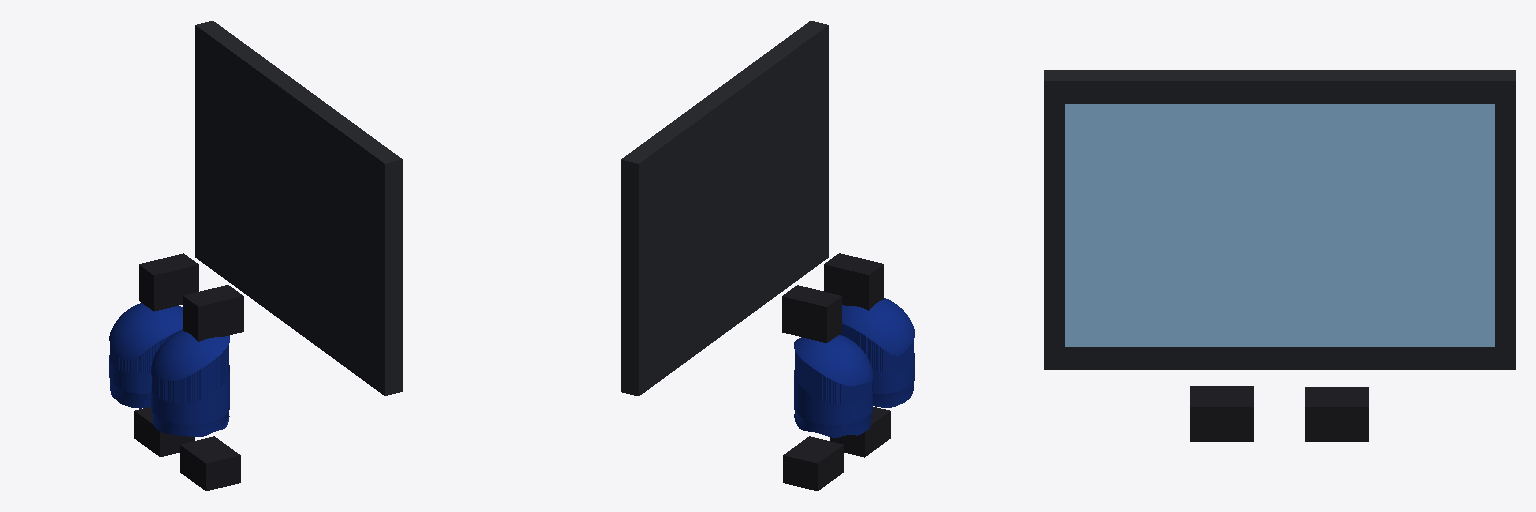
URDF robot description (haetburi):
<?xml version="1.0"?>
<!-- Haetburi biped (v19_xc330) - generated by tools/build_model.py, do not edit by hand -->
<robot name="haetburi">
  <mujoco>
    <compiler meshdir="." balanceinertia="true" discardvisual="false" strippath="false" fusestatic="false"/>
  </mujoco>
  <material name="display"><color rgba="0.18 0.19 0.21 1"/></material>
  <material name="screen"><color rgba="0.62 0.80 0.95 1"/></material>
  <material name="shell"><color rgba="0.106 0.216 0.541 1"/></material>
  <material name="motor"><color rgba="0.15 0.15 0.17 1"/></material>
  <material name="foot"><color rgba="0.25 0.25 0.28 1"/></material>
  <link name="world"/>
  <joint name="floating_base" type="floating">
    <parent link="world"/><child link="pelvis"/>
    <origin xyz="0 0 0" rpy="0 0 0"/>
  </joint>
  <link name="pelvis">
    <inertial>
      <origin xyz="-0.00429446 -0.000130495 0.0482093" rpy="0 0 0"/>
      <mass value="0.457205"/>
      <inertia ixx="0.000638731" ixy="3.41945e-06" ixz="0.00019398" iyy="0.000732697" iyz="5.66816e-06" izz="0.000765199"/>
    </inertial>
    <visual><origin xyz="0 0 0" rpy="0 0 0"/><geometry><mesh filename="meshes/pelvis.stl"/></geometry><material name="shell"/></visual>
    <visual><origin xyz="0.014303 0.0280162 0.062" rpy="0 0 0"/><geometry><box size="0.034 0.02 0.026"/></geometry><material name="motor"/></visual>
    <visual><origin xyz="0.015297 -0.0283619 0.062" rpy="0 0 0"/><geometry><box size="0.034 0.02 0.026"/></geometry><material name="motor"/></visual>
    <collision><origin xyz="0.00854514 -0.00016741 0.03749" rpy="0 0 0"/><geometry><box size="0.102452 0.13605 0.04458"/></geometry></collision>
  </link>
  <link name="torso">
    <inertial>
      <origin xyz="0.0304346 9.21525e-05 0.127815" rpy="0 0 0"/>
      <mass value="2.49671"/>
      <inertia ixx="0.0486542" ixy="-0.000109285" ixz="0.00845894" iyy="0.047975" iyz="-0.000116759" izz="0.0276872"/>
    </inertial>
    <visual><origin xyz="0 0 0" rpy="0 0 0"/><geometry><mesh filename="meshes/torso.stl"/></geometry><material name="shell"/></visual>
    <visual><origin xyz="0.096141 0 0.0478113" rpy="0 0 0"/><geometry><box size="0.013524 0.247548 0.167345"/></geometry><material name="display"/></visual>
    <visual><origin xyz="0.102903 0 0.0478113" rpy="0 0 0"/><geometry><box size="0.0004 0.225792 0.14112"/></geometry><material name="screen"/></visual>
    <collision><origin xyz="-0.0446378 -2.07797e-06 0.032932" rpy="0 0 0"/><geometry><box size="0.209525 0.142073 0.139911"/></geometry></collision>
    <collision><origin xyz="0.0545076 0.110048 0.0663604" rpy="0 0 0"/><geometry><sphere radius="0.0796041"/></geometry></collision>
    <collision><origin xyz="0.0548844 -0.110217 0.0663604" rpy="0 0 0"/><geometry><sphere radius="0.0795276"/></geometry></collision>
    <collision><origin xyz="-0.00684162 0.000349887 0.134345" rpy="0 0 0"/><geometry><sphere radius="0.136537"/></geometry></collision>
    <collision><origin xyz="-0.0119218 -0.00016086 0.197217" rpy="0 0 0"/><geometry><sphere radius="0.157523"/></geometry></collision>
    <collision><origin xyz="-0.0181535 -0.000265494 0.260099" rpy="0 0 0"/><geometry><sphere radius="0.155698"/></geometry></collision>
    <collision><origin xyz="-0.0142413 0.00112154 0.322979" rpy="0 0 0"/><geometry><sphere radius="0.135386"/></geometry></collision>
    <collision><origin xyz="-0.00842703 0.00887726 0.385897" rpy="0 0 0"/><geometry><sphere radius="0.0964986"/></geometry></collision>
    <collision><origin xyz="-0.0154437 -0.00293413 0.44876" rpy="0 0 0"/><geometry><sphere radius="0.056001"/></geometry></collision>
    <collision><origin xyz="0.096141 0 0.0478113" rpy="0 0 0"/><geometry><box size="0.013524 0.247548 0.167345"/></geometry></collision>
  </link>
  <link name="leg_l">
    <inertial>
      <origin xyz="-0.00365915 0.00265887 -0.0120138" rpy="0 0 0"/>
      <mass value="0.0746039"/>
      <inertia ixx="6.12366e-05" ixy="1.15046e-07" ixz="3.26188e-06" iyy="6.21255e-05" iyz="3.03383e-07" izz="2.80768e-05"/>
    </inertial>
    <visual><origin xyz="0 0 0" rpy="0 0 0"/><geometry><mesh filename="meshes/leg_l.stl"/></geometry><material name="shell"/></visual>
    <collision><origin xyz="-0.00552526 0.00309104 0.00174308" rpy="0 0 0"/><geometry><box size="0.0528905 0.0485022 0.0618771"/></geometry></collision>
  </link>
  <link name="hip_l">
    <inertial>
      <origin xyz="0 -0.0025438 0.0220535" rpy="0 0 0"/>
      <mass value="0.0330524"/>
      <inertia ixx="3.81359e-06" ixy="0" ixz="0" iyy="3.26885e-06" iyz="6.71533e-08" izz="2.07807e-06"/>
    </inertial>
    <visual><origin xyz="0 -0.003 0.024" rpy="0 0 0"/><geometry><box size="0.02 0.026 0.034"/></geometry><material name="motor"/></visual>
  </link>
  <link name="foot_l">
    <inertial>
      <origin xyz="0.00151836 0.00765724 -0.00188504" rpy="0 0 0"/>
      <mass value="0.108166"/>
      <inertia ixx="3.82088e-05" ixy="-2.04857e-06" ixz="-5.5707e-07" iyy="5.63009e-05" iyz="-1.65069e-06" izz="6.65931e-05"/>
    </inertial>
    <visual><origin xyz="0 0 0" rpy="0 0 0"/><geometry><mesh filename="meshes/foot_l.stl"/></geometry><material name="shell"/></visual>
    <visual><origin xyz="0 0.0088 5.38845e-19" rpy="0 0 0"/><geometry><box size="0.026 0.034 0.02"/></geometry><material name="motor"/></visual>
    <collision><origin xyz="0 0 0" rpy="0 0 0"/><geometry><mesh filename="meshes/foot_l.stl"/></geometry></collision>
  </link>
  <link name="leg_r">
    <inertial>
      <origin xyz="-0.00403172 -0.00260922 -0.0136105" rpy="0 0 0"/>
      <mass value="0.0764991"/>
      <inertia ixx="6.72803e-05" ixy="-1.83685e-07" ixz="3.94605e-06" iyy="6.82711e-05" iyz="-3.38436e-07" izz="2.94613e-05"/>
    </inertial>
    <visual><origin xyz="0 0 0" rpy="0 0 0"/><geometry><mesh filename="meshes/leg_r.stl"/></geometry><material name="shell"/></visual>
    <collision><origin xyz="-0.00659261 -0.00306936 0.000874972" rpy="0 0 0"/><geometry><box size="0.0526981 0.0486026 0.0657819"/></geometry></collision>
  </link>
  <link name="hip_r">
    <inertial>
      <origin xyz="0 0.0025438 0.0245973" rpy="0 0 0"/>
      <mass value="0.0330524"/>
      <inertia ixx="3.96364e-06" ixy="0" ixz="0" iyy="3.4189e-06" iyz="-8.28923e-08" izz="2.07807e-06"/>
    </inertial>
    <visual><origin xyz="0 0.003 0.027" rpy="0 0 0"/><geometry><box size="0.02 0.026 0.034"/></geometry><material name="motor"/></visual>
  </link>
  <link name="foot_r">
    <inertial>
      <origin xyz="0.00167186 -0.00757097 -0.00193996" rpy="0 0 0"/>
      <mass value="0.107887"/>
      <inertia ixx="3.79326e-05" ixy="2.17018e-06" ixz="-4.94496e-07" iyy="5.60583e-05" iyz="1.63832e-06" izz="6.63659e-05"/>
    </inertial>
    <visual><origin xyz="0 0 0" rpy="0 0 0"/><geometry><mesh filename="meshes/foot_r.stl"/></geometry><material name="shell"/></visual>
    <visual><origin xyz="0 -0.0088 5.38845e-19" rpy="0 0 0"/><geometry><box size="0.026 0.034 0.02"/></geometry><material name="motor"/></visual>
    <collision><origin xyz="0 0 0" rpy="0 0 0"/><geometry><mesh filename="meshes/foot_r.stl"/></geometry></collision>
  </link>
  <joint name="waist_fixed" type="fixed">
    <parent link="pelvis"/><child link="torso"/>
    <origin xyz="0 0 0.05978" rpy="0 0 0"/>
  </joint>
  <joint name="hip_yaw_l" type="revolute">
    <parent link="pelvis"/><child link="hip_l"/>
    <origin xyz="0.00550302 0.0280162 0" rpy="0 0 0"/>
    <axis xyz="0 0 1"/>
    <limit lower="-0.366519" upper="0.366519" effort="1.0" velocity="7.43"/>
    <dynamics damping="0.07142857142857144" friction="0.028571428571428574"/>
  </joint>
  <joint name="hip_pitch_l" type="revolute">
    <parent link="hip_l"/><child link="leg_l"/>
    <origin xyz="0 -0.003 0.0152" rpy="0 0 0"/>
    <axis xyz="0 1 0"/>
    <limit lower="-0.523599" upper="0.418879" effort="1.0" velocity="7.43"/>
    <dynamics damping="0.07142857142857144" friction="0.028571428571428574"/>
  </joint>
  <joint name="hip_yaw_r" type="revolute">
    <parent link="pelvis"/><child link="hip_r"/>
    <origin xyz="0.00649698 -0.0283619 0" rpy="0 0 0"/>
    <axis xyz="0 0 1"/>
    <limit lower="-0.366519" upper="0.366519" effort="1.0" velocity="7.43"/>
    <dynamics damping="0.07142857142857144" friction="0.028571428571428574"/>
  </joint>
  <joint name="hip_pitch_r" type="revolute">
    <parent link="hip_r"/><child link="leg_r"/>
    <origin xyz="0 0.003 0.0182" rpy="0 0 0"/>
    <axis xyz="0 1 0"/>
    <limit lower="-0.523599" upper="0.418879" effort="1.0" velocity="7.43"/>
    <dynamics damping="0.07142857142857144" friction="0.028571428571428574"/>
  </joint>
  <joint name="ankle_roll_l" type="revolute">
    <parent link="leg_l"/><child link="foot_l"/>
    <origin xyz="0.00663361 -0.00382274 -0.05951" rpy="0 0 0"/>
    <axis xyz="1 0 0"/>
    <limit lower="-0.261799" upper="0.261799" effort="1.0" velocity="7.43"/>
    <dynamics damping="0.07142857142857144" friction="0.028571428571428574"/>
  </joint>
  <joint name="ankle_roll_r" type="revolute">
    <parent link="leg_r"/><child link="foot_r"/>
    <origin xyz="0.00528074 0.00366681 -0.06251" rpy="0 0 0"/>
    <axis xyz="1 0 0"/>
    <limit lower="-0.261799" upper="0.261799" effort="1.0" velocity="7.43"/>
    <dynamics damping="0.07142857142857144" friction="0.028571428571428574"/>
  </joint>
</robot>

--- Facts derived from the render (not from the file) ---
Views: 3 orthographic renders of the robot side by side, from view 1: azimuth 30°, elevation 25°; view 2: azimuth 150°, elevation 25°; view 3: azimuth 270°, elevation 25°.
Model haetburi with 9 links and 8 joints (6 revolute, 1 fixed, 1 floating), rooted at world, posed every joint at zero.
Links seen in each view (by area): view 1: torso, leg_r, pelvis, leg_l, foot_r, foot_l; view 2: torso, leg_l, pelvis, leg_r, foot_l, foot_r; view 3: torso, foot_r, foot_l.
Link boxes in pixels (<box>): torso: <box>195,21,402,395</box>; leg_r: <box>151,329,229,436</box>; pelvis: <box>139,253,243,341</box>; leg_l: <box>109,303,182,408</box>; foot_r: <box>180,436,240,490</box>; foot_l: <box>134,407,194,456</box>; torso: <box>621,21,828,395</box>; leg_l: <box>794,335,872,437</box>; pelvis: <box>782,253,883,342</box>; leg_r: <box>839,298,914,407</box>; foot_l: <box>783,436,843,490</box>; foot_r: <box>830,407,890,457</box>; torso: <box>1044,70,1515,369</box>; foot_r: <box>1190,386,1253,441</box>; foot_l: <box>1305,387,1368,441</box>.
Size in the robot's own frame: 0.1296 by 0.2475 by 0.2456 metres.
Meshes: 6 distinct files referenced, 2 mesh visuals loaded (2 binary STL); not drawn: 4 (reference not matched to a file when rendering).
